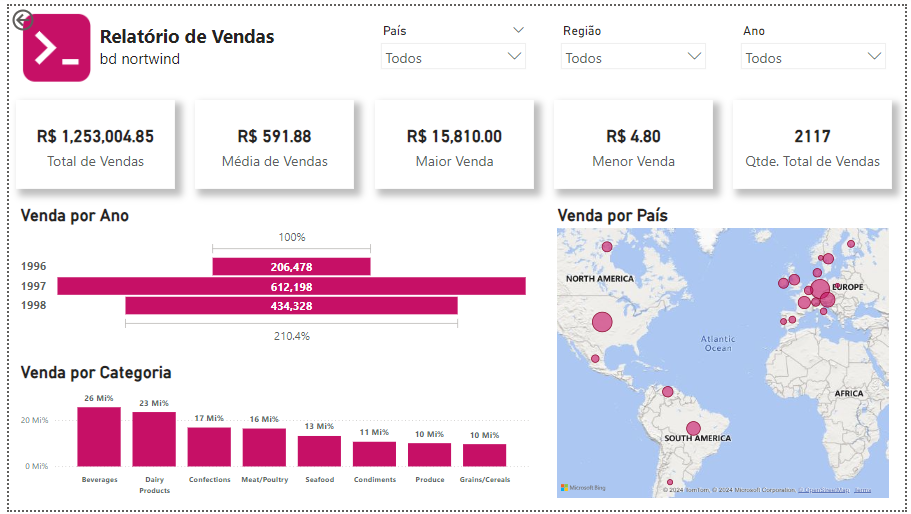

What the dashboard file says about the page in this screenshot:
{"tool":"powerbi","page":{"name":"Página 1","canvas":[1280,720],"ordinal":0},"visuals":[{"type":"image","box":[10.1,0,117.6,117.6],"z":0},{"type":"textbox","box":[124.3,18.6,285.7,85.7],"z":1000},{"type":"card","fields":{"Values":["Sum(data_warehouse fato_vendas.venda)"]},"box":[10,134.3,227.1,127.1],"z":2000},{"type":"card","fields":{"Values":["Avg(data_warehouse fato_vendas.venda)"]},"box":[266.1,134.3,227.1,127.1],"z":3000},{"type":"card","fields":{"Values":["Max(data_warehouse fato_vendas.venda)"]},"box":[522.1,134.3,227.1,127.1],"z":4000},{"type":"card","fields":{"Values":["Min(data_warehouse fato_vendas.venda)"]},"box":[778.2,134.3,227.1,127.1],"z":5000},{"type":"card","fields":{"Values":["CountNonNull(data_warehouse fato_vendas.venda)"]},"box":[1034.3,134.3,227.1,127.1],"z":6000},{"type":"funnel","fields":{"Y":["Sum(data_warehouse fato_vendas.venda)"],"Category":["data_warehouse dim_tempo.data.Variation.Hierarquia de datas.Ano"]},"box":[11.7,285,736.7,201.7],"z":7000},{"type":"columnChart","fields":{"Y":["Sum(data_warehouse fato_vendas.venda)"],"Category":["data_warehouse dim_produto.categoria"]},"box":[11.7,510,736.7,196.7],"z":8000},{"type":"map","fields":{"Size":["Sum(data_warehouse fato_vendas.venda)"],"Category":["data_warehouse dim_regiao.pais"]},"box":[778.3,285,483.3,421.7],"z":9000},{"type":"slicer","fields":{"Values":["data_warehouse dim_tempo.data.Variation.Hierarquia de datas.Ano"]},"box":[1035,20,226.7,76.7],"z":10000},{"type":"actionButton","box":[0,0,100,40],"z":11000},{"type":"slicer","fields":{"Values":["data_warehouse dim_regiao.regiao"]},"box":[778.3,20,226.7,76.7],"z":12000},{"type":"slicer","fields":{"Values":["data_warehouse dim_regiao.pais"]},"box":[521.7,20,226.7,76.7],"z":13000}]}

Visuals, with their boxes in screenshot pixels (x1, y1, x2, y2), scaled from the page's 1280x720 canvas onto the 911x514 screenshot:
image: [x1=7, y1=0, x2=91, y2=84]
textbox: [x1=88, y1=13, x2=292, y2=74]
card - Sum(data_warehouse fato_vendas.venda): [x1=7, y1=96, x2=169, y2=187]
card - Avg(data_warehouse fato_vendas.venda): [x1=189, y1=96, x2=351, y2=187]
card - Max(data_warehouse fato_vendas.venda): [x1=372, y1=96, x2=533, y2=187]
card - Min(data_warehouse fato_vendas.venda): [x1=554, y1=96, x2=715, y2=187]
card - CountNonNull(data_warehouse fato_vendas.venda): [x1=736, y1=96, x2=898, y2=187]
funnel - Sum(data_warehouse fato_vendas.venda) x data_warehouse dim_tempo.data.Variation.Hierarquia de datas.Ano: [x1=8, y1=203, x2=533, y2=347]
columnChart - Sum(data_warehouse fato_vendas.venda) x data_warehouse dim_produto.categoria: [x1=8, y1=364, x2=533, y2=505]
map - Sum(data_warehouse fato_vendas.venda) x data_warehouse dim_regiao.pais: [x1=554, y1=203, x2=898, y2=505]
slicer - data_warehouse dim_tempo.data.Variation.Hierarquia de datas.Ano: [x1=737, y1=14, x2=898, y2=69]
actionButton: [x1=0, y1=0, x2=71, y2=29]
slicer - data_warehouse dim_regiao.regiao: [x1=554, y1=14, x2=715, y2=69]
slicer - data_warehouse dim_regiao.pais: [x1=371, y1=14, x2=533, y2=69]
